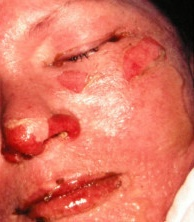SJS-TEN: (0, 67, 194, 222), (36, 11, 178, 108), (0, 102, 90, 174)
